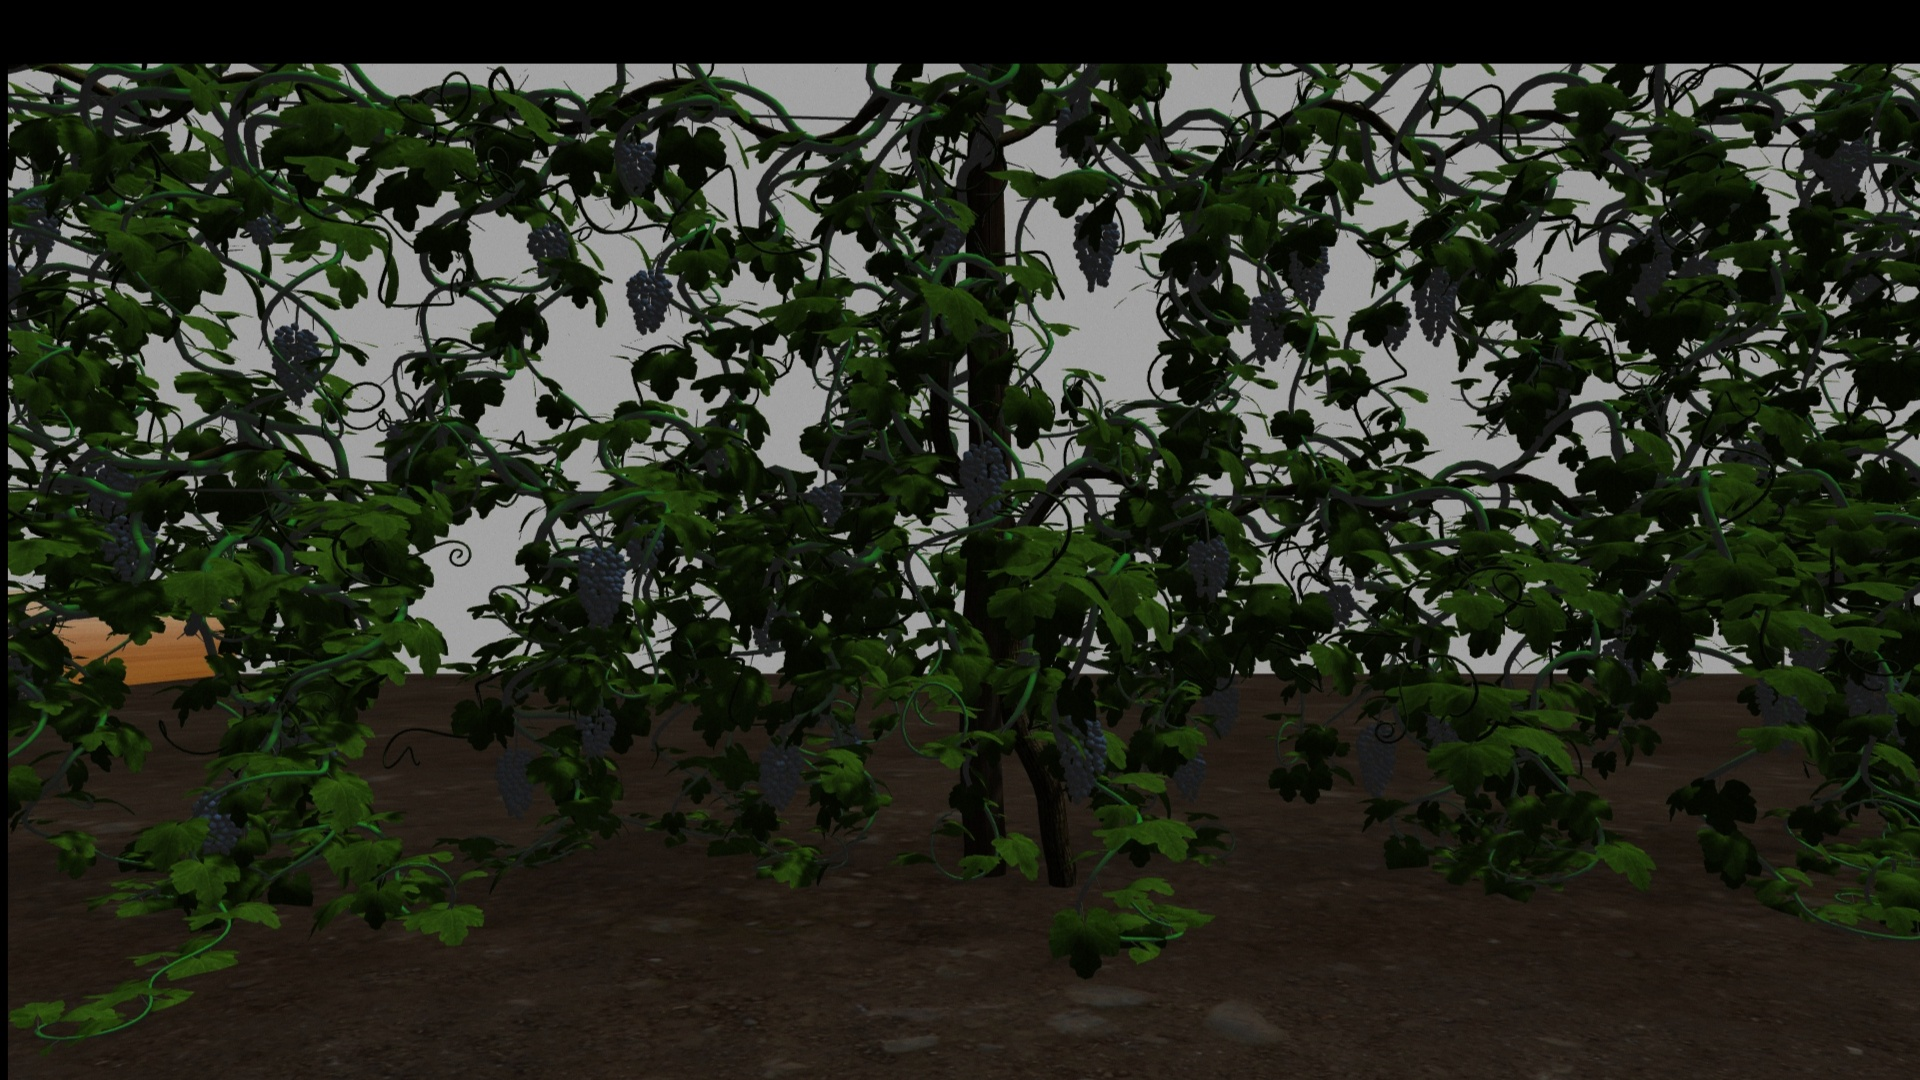grape: (575, 545, 628, 632), (268, 324, 323, 405), (1844, 666, 1902, 742), (957, 439, 1007, 527), (1062, 709, 1108, 804), (1625, 227, 1671, 318), (1753, 679, 1807, 754), (1072, 211, 1120, 293), (1408, 265, 1456, 347), (13, 186, 61, 261), (189, 789, 243, 855), (103, 516, 156, 583), (756, 744, 807, 811), (1354, 723, 1398, 796), (625, 269, 671, 338), (1185, 534, 1232, 603), (493, 750, 538, 820), (1247, 287, 1287, 365), (1287, 243, 1331, 311), (1826, 140, 1867, 207), (87, 464, 136, 517), (612, 138, 655, 196), (920, 204, 960, 268), (1203, 671, 1240, 737), (527, 218, 572, 269), (1799, 127, 1844, 175), (1172, 748, 1208, 806), (582, 705, 616, 761), (1317, 584, 1356, 626), (806, 484, 843, 526), (245, 215, 281, 245)
